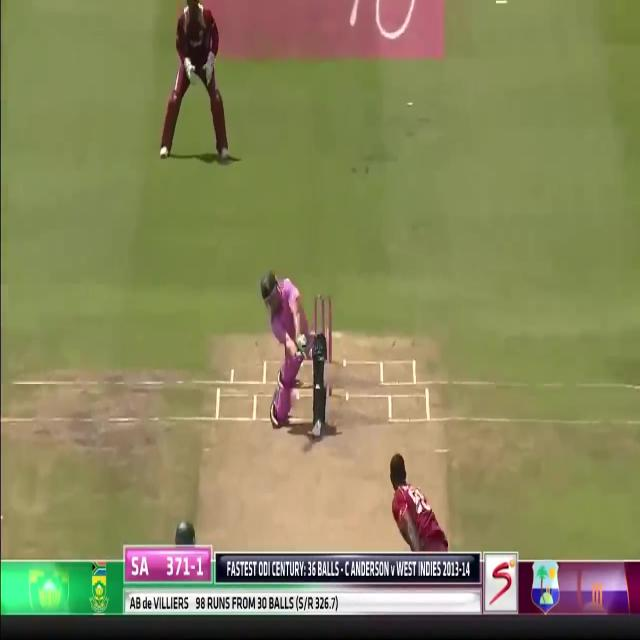Ball: (263, 270, 333, 434)
Fielder: (165, 0, 227, 162), (389, 453, 451, 551)
